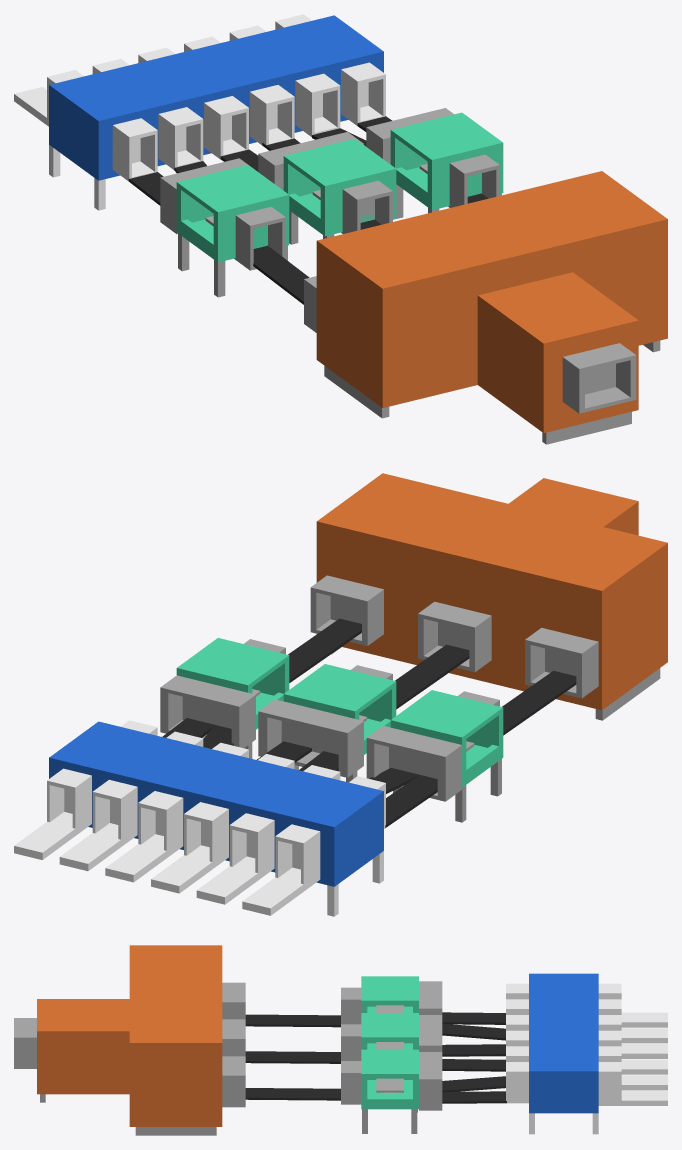
Rendered from SpacePort1.fbx.
3 views of the same model, one above another, from view 1: azimuth 30°, elevation 25°; view 2: azimuth 150°, elevation 25°; view 3: azimuth 270°, elevation 25° (orthographic). The views are drawn at different scales.
Parts seen in each view (by area): view 1: Packaging Station, Intake Station, All Weighing Station, Fluids Weighing Station, Solids Weighing Station, Intake3.001, IntakeCell1.002, IntakeCell1.006, IntakeCell1.005, IntakeCell1.003, IntakeCell1.001, IntakeCell1.004 (+12 smaller); view 2: Packaging Station, Intake Station, All Weighing Station, SolidIntake, Fluids Weighing Station, Solids Weighing Station, FluidsIntake, AllIntake, IntakeCell2, IntakeCell3, IntakeCell5, IntakeCell6 (+10 smaller); view 3: Packaging Station, Intake Station, Fluids Weighing Station, All Weighing Station, Solids Weighing Station, IntakeCell1, FluidsIntake, Intake1, Conveyor2, Conveyor1, Conveyor3, Intake3.001 (+25 smaller).
Boxes of the visible parts, bbox=[...] form: Packaging Station: bbox=[316, 171, 667, 432]; Intake Station: bbox=[49, 15, 383, 180]; All Weighing Station: bbox=[176, 165, 289, 262]; Fluids Weighing Station: bbox=[390, 112, 503, 210]; Solids Weighing Station: bbox=[283, 138, 396, 236]; Intake3.001: bbox=[562, 343, 636, 413]; IntakeCell1.002: bbox=[295, 73, 340, 136]; IntakeCell1.006: bbox=[112, 118, 157, 180]; IntakeCell1.005: bbox=[158, 107, 203, 169]; IntakeCell1.003: bbox=[249, 85, 294, 147]; IntakeCell1.001: bbox=[341, 62, 385, 125]; IntakeCell1.004: bbox=[204, 96, 248, 159]; Packaging Station: bbox=[316, 473, 667, 710]; Intake Station: bbox=[49, 721, 383, 886]; All Weighing Station: bbox=[390, 690, 503, 787]; SolidIntake: bbox=[258, 699, 363, 777]; Fluids Weighing Station: bbox=[176, 638, 289, 729]; Solids Weighing Station: bbox=[283, 664, 396, 754]; FluidsIntake: bbox=[160, 675, 255, 748]; AllIntake: bbox=[366, 725, 461, 801]; IntakeCell2: bbox=[59, 779, 137, 871]; IntakeCell3: bbox=[105, 791, 183, 882]; IntakeCell5: bbox=[196, 813, 274, 904]; IntakeCell6: bbox=[242, 824, 320, 915]; Packaging Station: bbox=[37, 945, 222, 1126]; Intake Station: bbox=[529, 973, 598, 1113]; Fluids Weighing Station: bbox=[361, 1049, 418, 1109]; All Weighing Station: bbox=[361, 976, 418, 1012]; Solids Weighing Station: bbox=[361, 1013, 418, 1049]; IntakeCell1: bbox=[598, 1062, 667, 1105]; FluidsIntake: bbox=[419, 1052, 442, 1110]; Intake1: bbox=[222, 1056, 245, 1107]; Conveyor2: bbox=[245, 1051, 340, 1063]; Conveyor1: bbox=[245, 1088, 340, 1100]; Conveyor3: bbox=[245, 1014, 340, 1027]; Intake3.001: bbox=[14, 1018, 36, 1068].
Bounding box in the file's own units: 4000 × 1790 × 11300.
